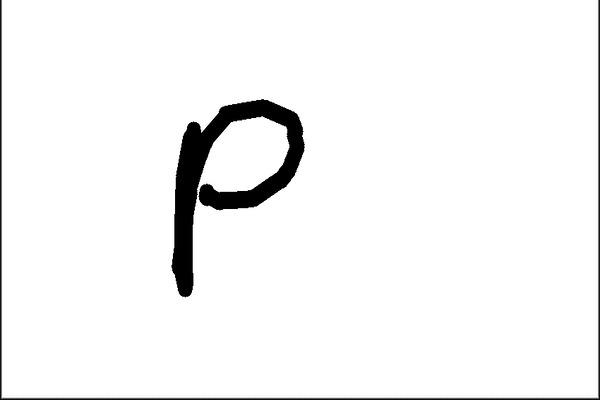P: (153, 95, 317, 307)
